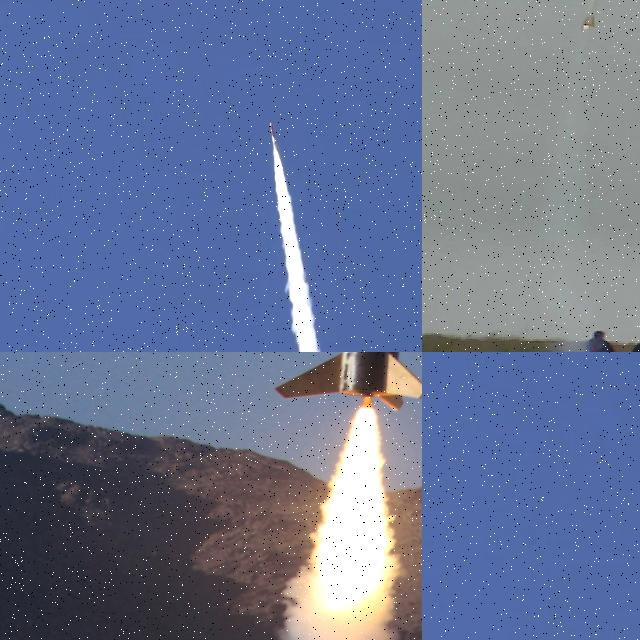Rocket: (273, 352, 422, 413), (582, 0, 604, 27), (269, 122, 278, 146)
